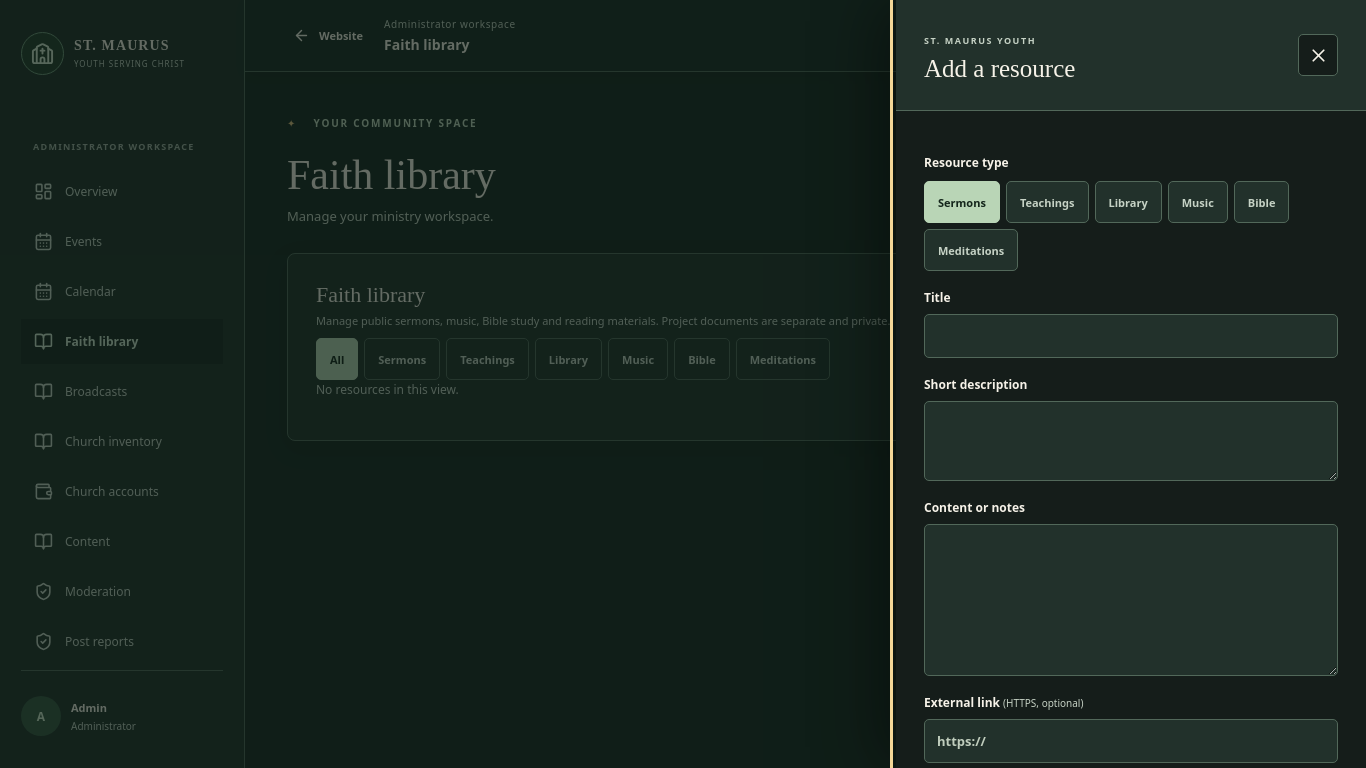
Test case: lets administrators select resource destinations before publishing
Earlier steps of the test are not shown.
In the field labelled "Title": (1131, 336) [924,314,1338,358], type "A reflection"
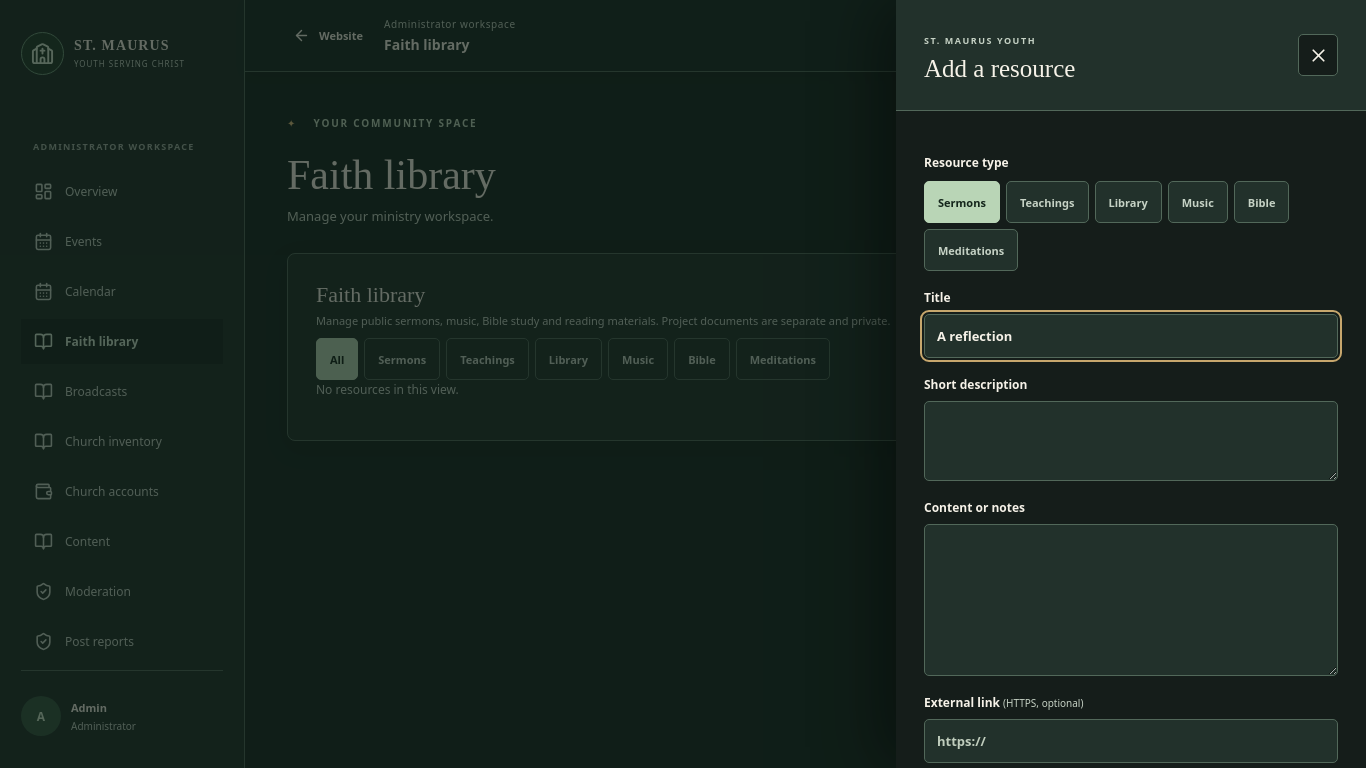
In the text box labelled "Short description": (1131, 441) [924,401,1338,481], type "A little reflection"
(page scrolled)
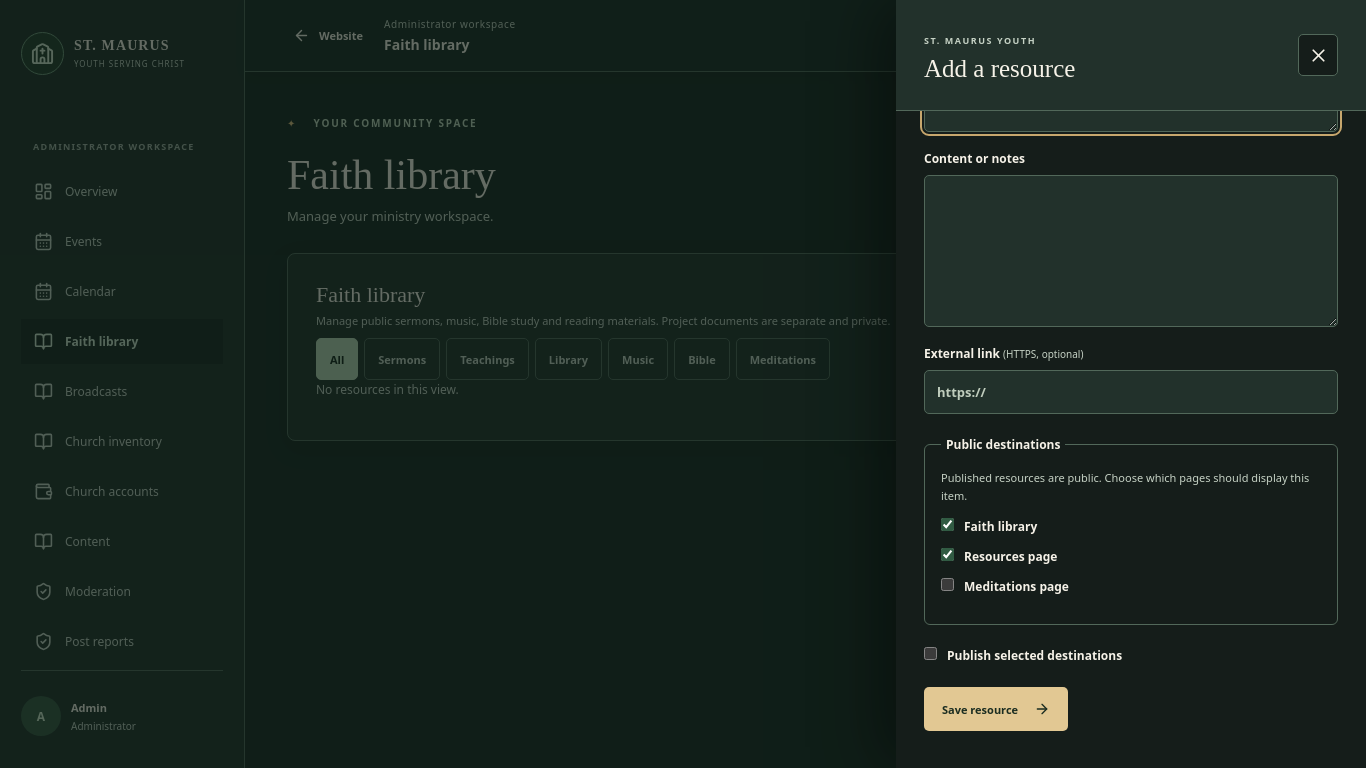
Click the checkbox labelled "Resources page": click(948, 555) [941,548,954,561]
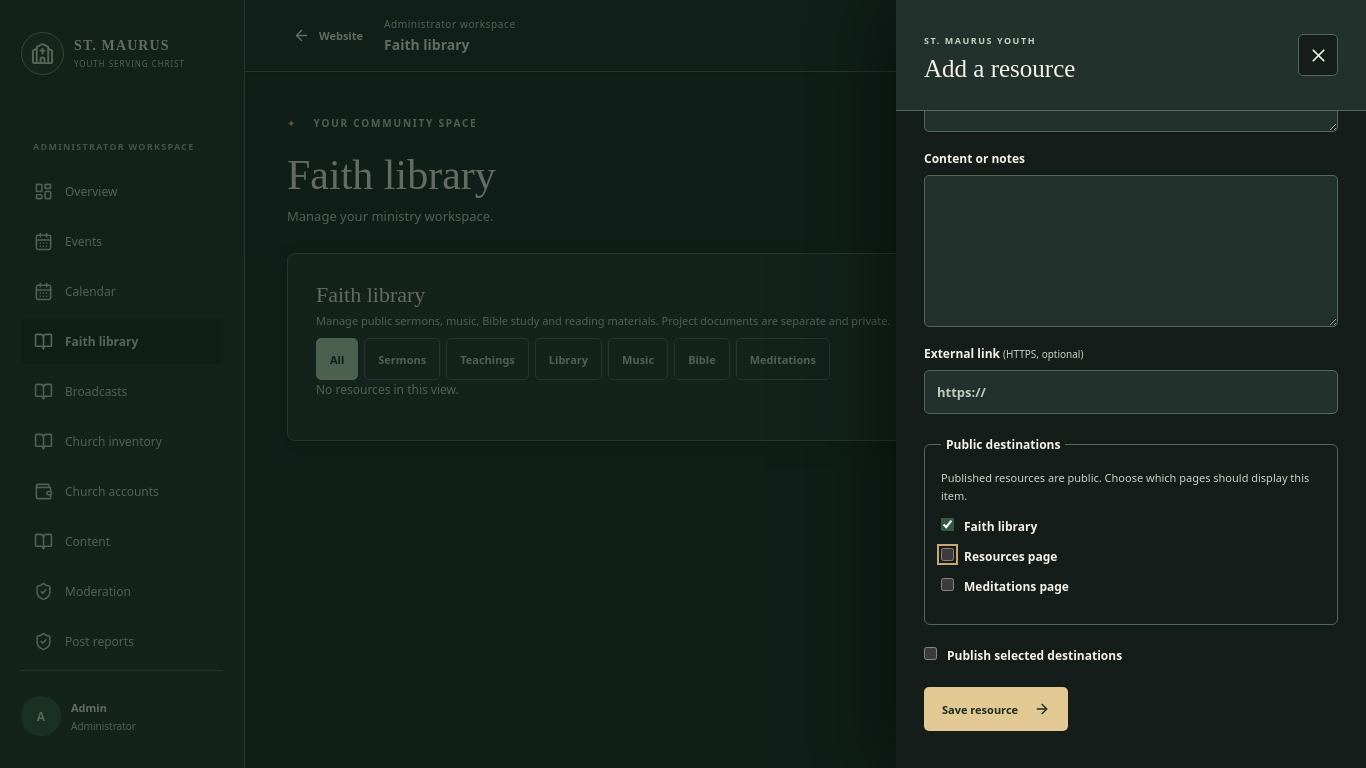
Click the checkbox labelled "Meditations page": click(948, 585) [941,578,954,591]
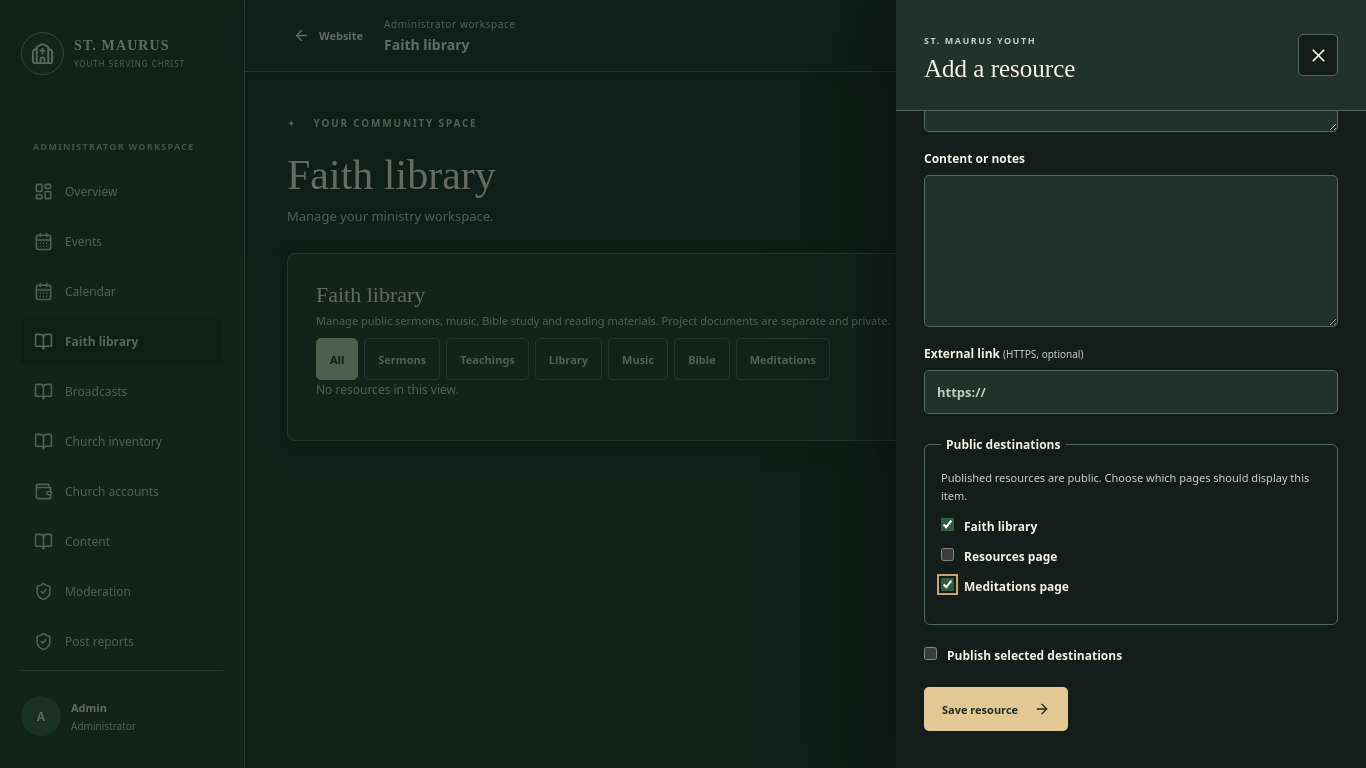
Click the checkbox labelled "Publish selected destinations": click(930, 654) [924,647,937,660]
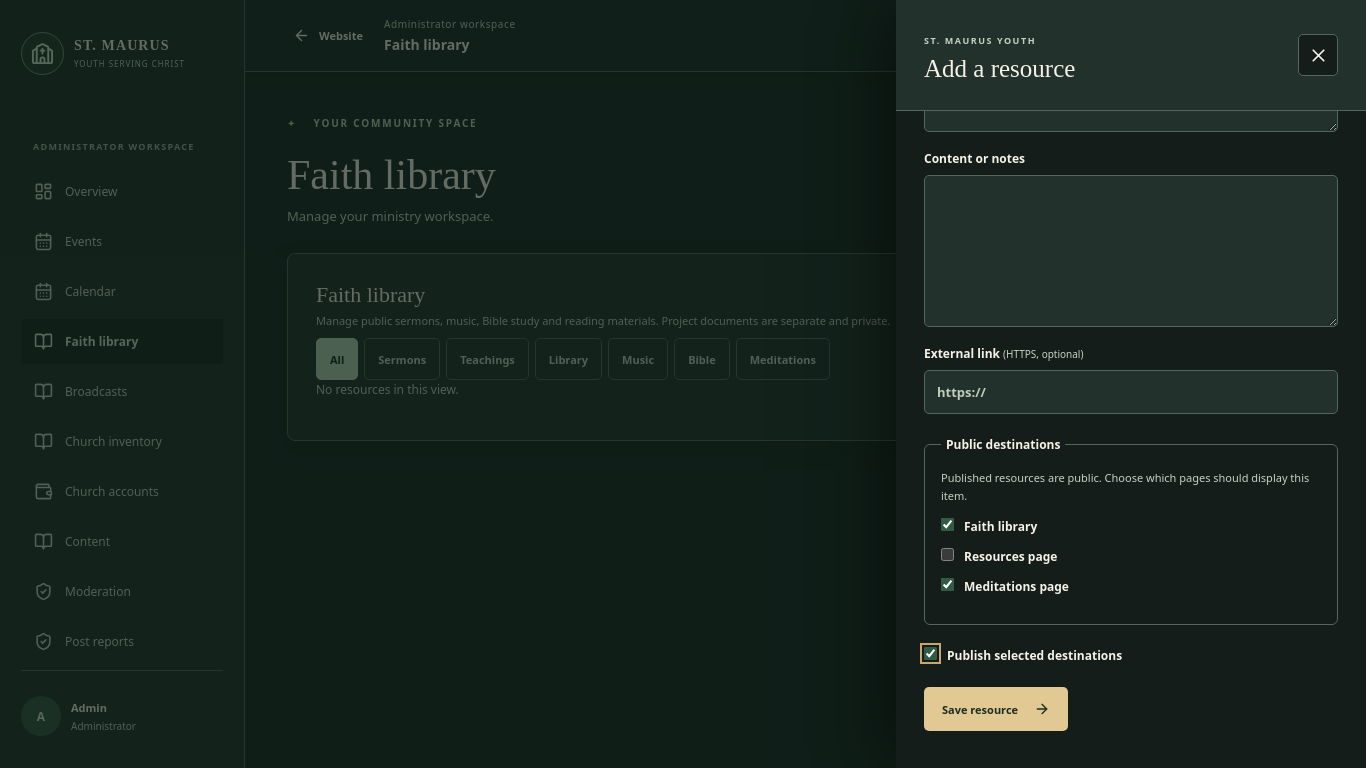
Click the button "Save resource": click(996, 709) [924,687,1068,731]
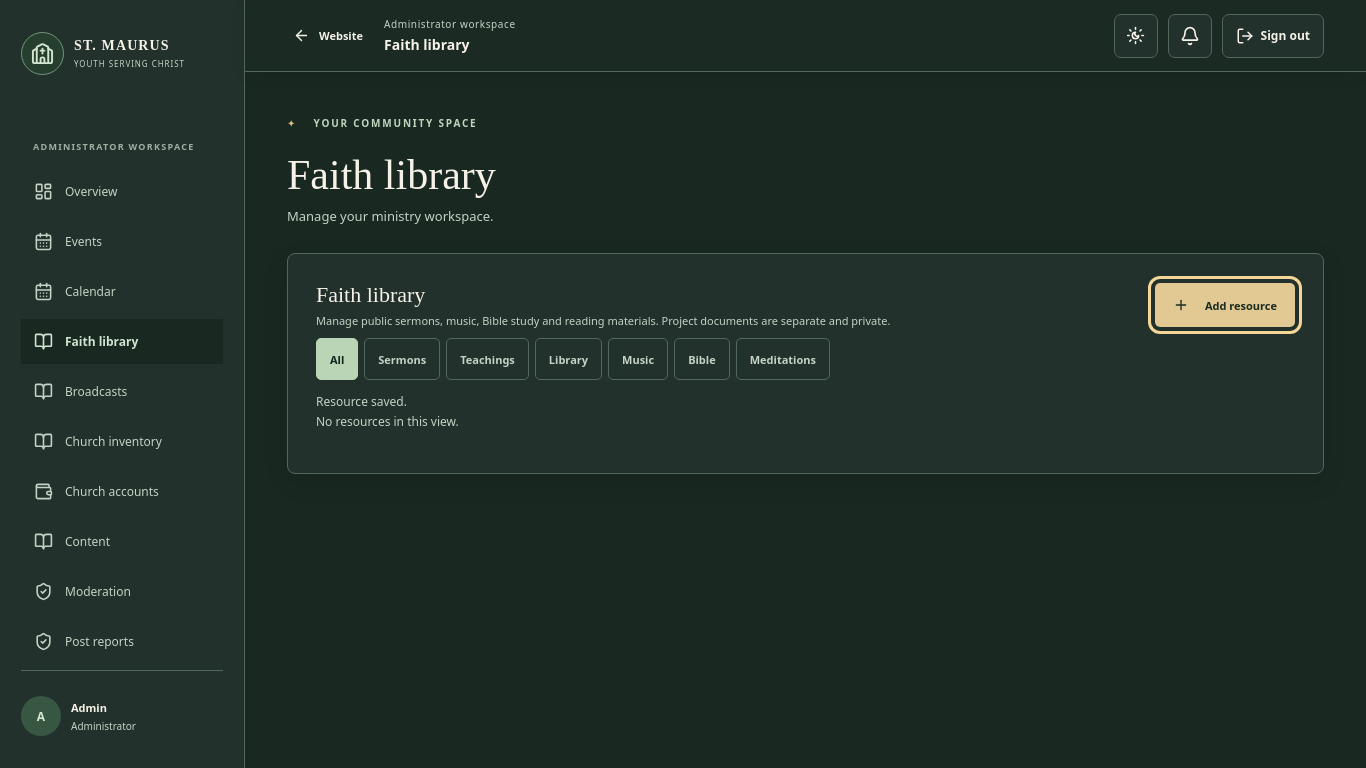
Expected: the text "Resource saved." is shown, [316,393,407,410]
